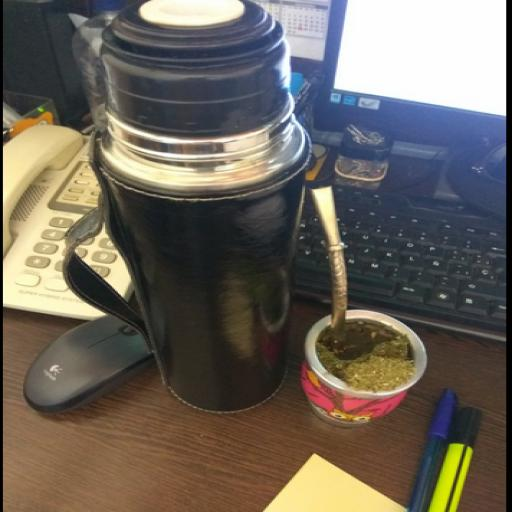mate: (303, 187, 427, 427)
termo: (93, 0, 310, 412)
